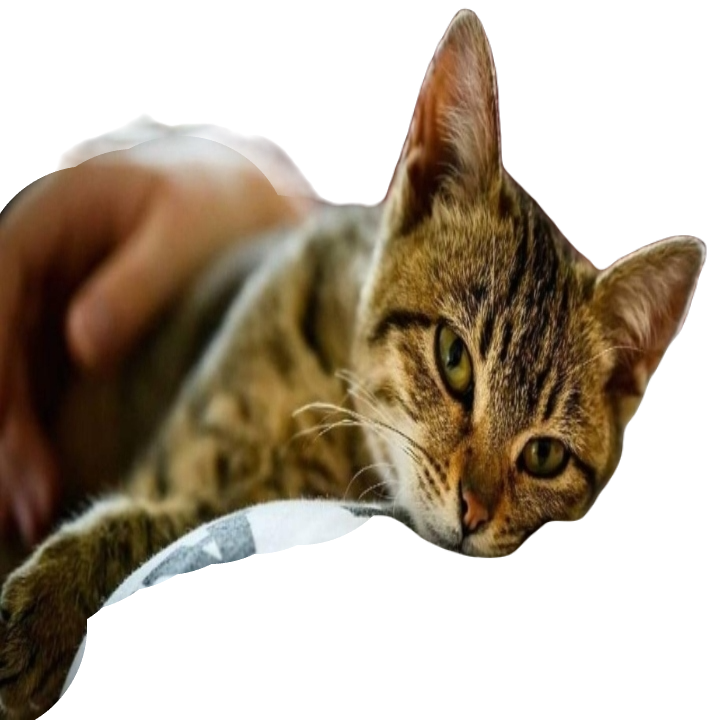Cat: (0, 2, 712, 719)
